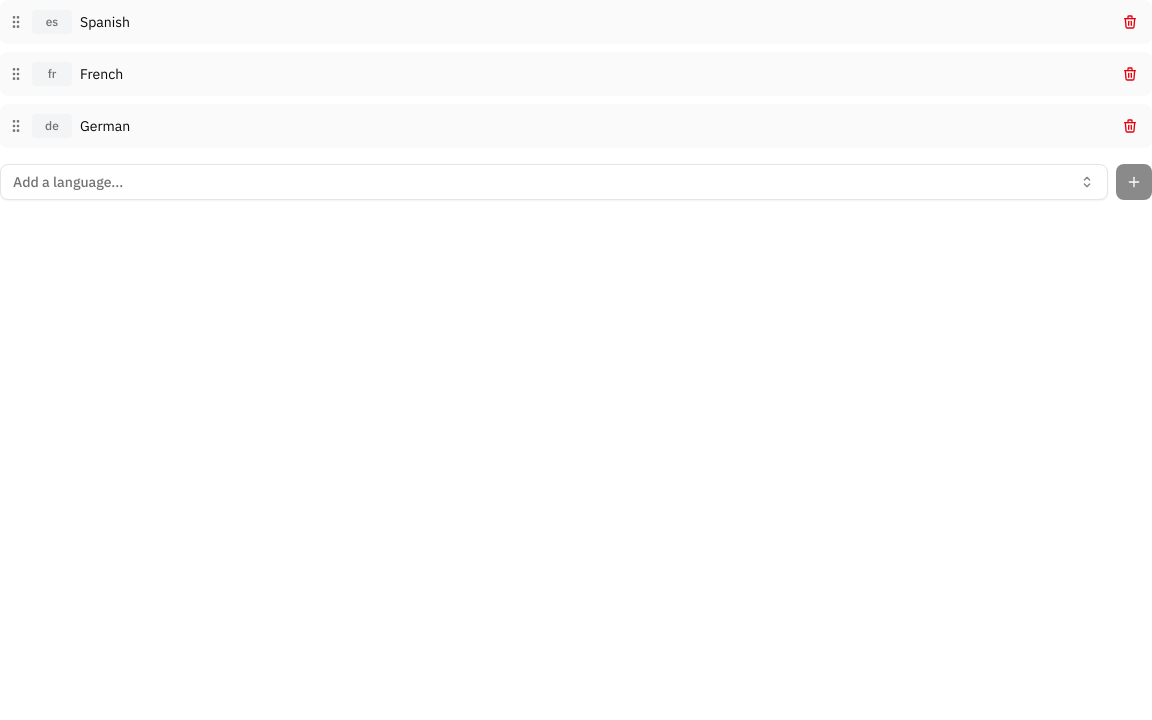
Scenario: LanguageList › clears the selection after adding a language
The width and height of the screenshot is (1152, 720).
// Click the combobox to open it
Click the dropdown named "select language" at {"x": 68, "y": 182}, box [0,164,1108,200]
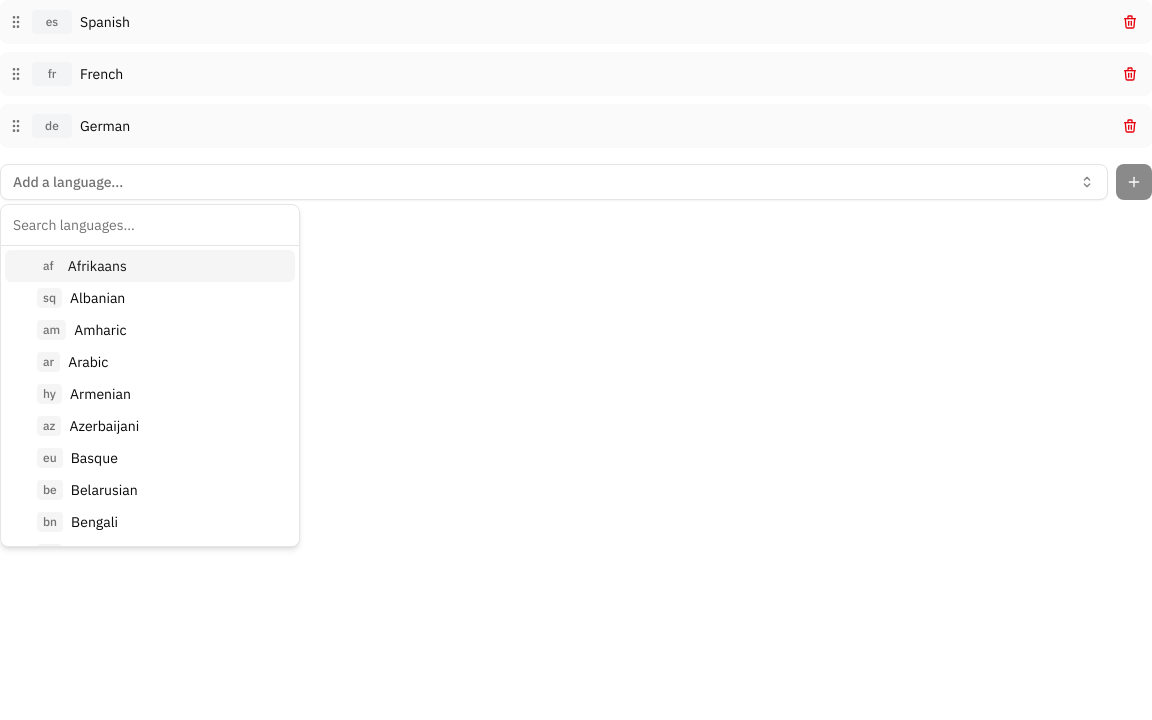
Result: the dropdown with placeholder "Search languages..." is shown
Type "Japanese" into the dropdown with placeholder "Search languages..." at {"x": 150, "y": 225}, box [13,205,287,245]
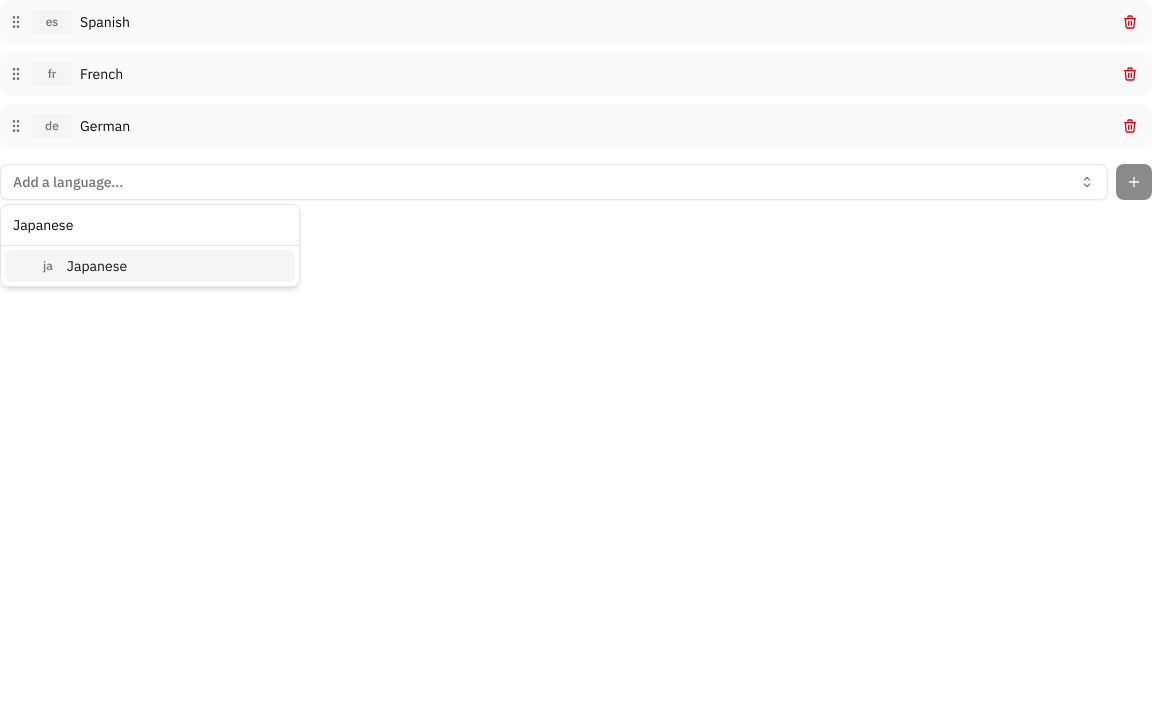
Result: the option "ja Japanese" is shown
Click the option "ja Japanese" at {"x": 97, "y": 266}, box [5,250,295,282]
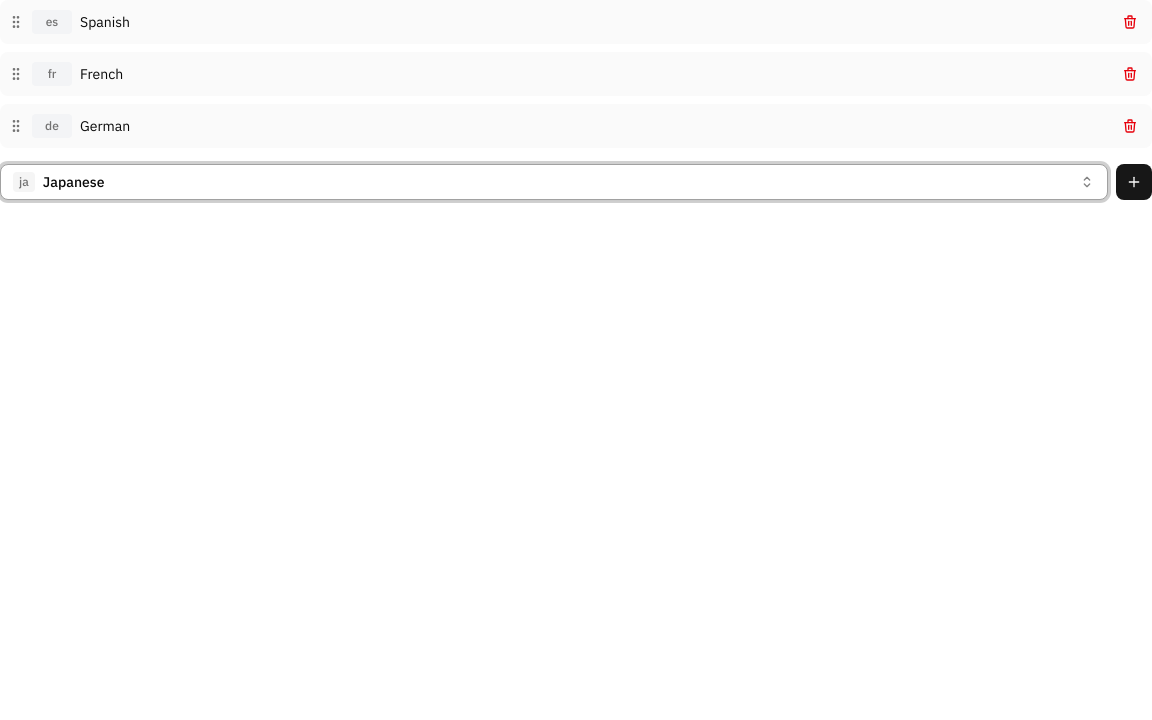
// Add the language
Click the button named "add" at {"x": 1134, "y": 182}, box [1116,164,1151,200]
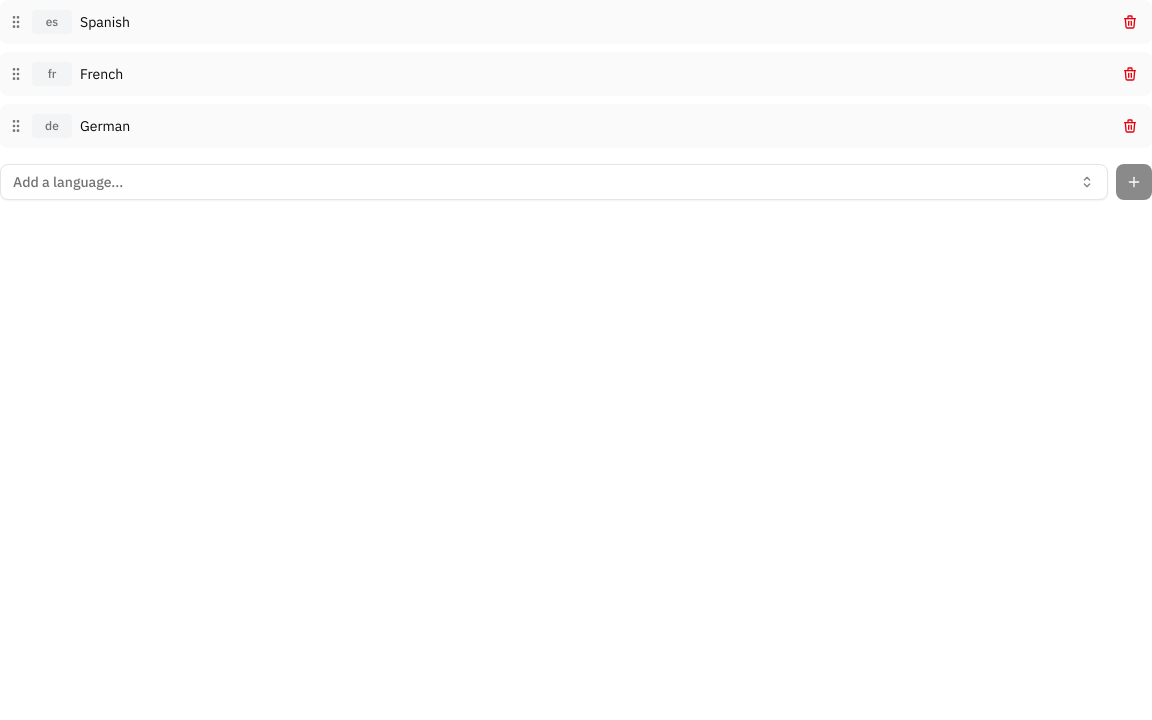
Result: the dropdown named "select language" reads "Add a language..." at [0,164,1108,200]
